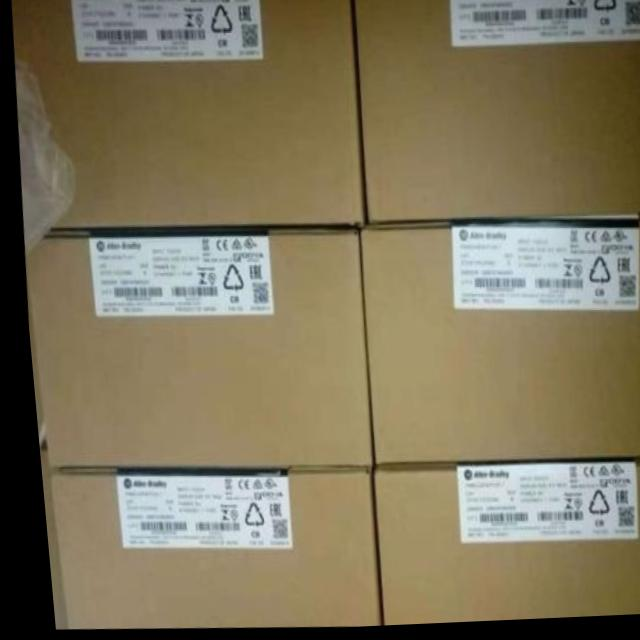box: (20, 227, 366, 470), (11, 0, 363, 231), (356, 218, 640, 466), (43, 467, 369, 627), (362, 464, 640, 627)
